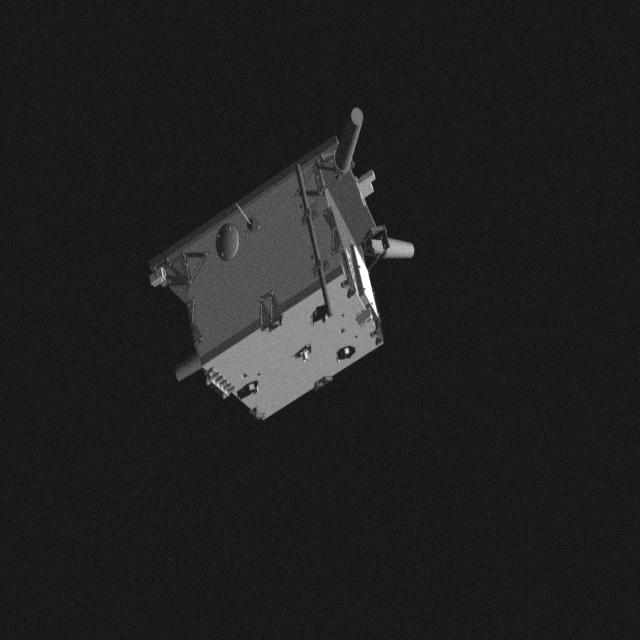satellite: (140, 100, 418, 436)
